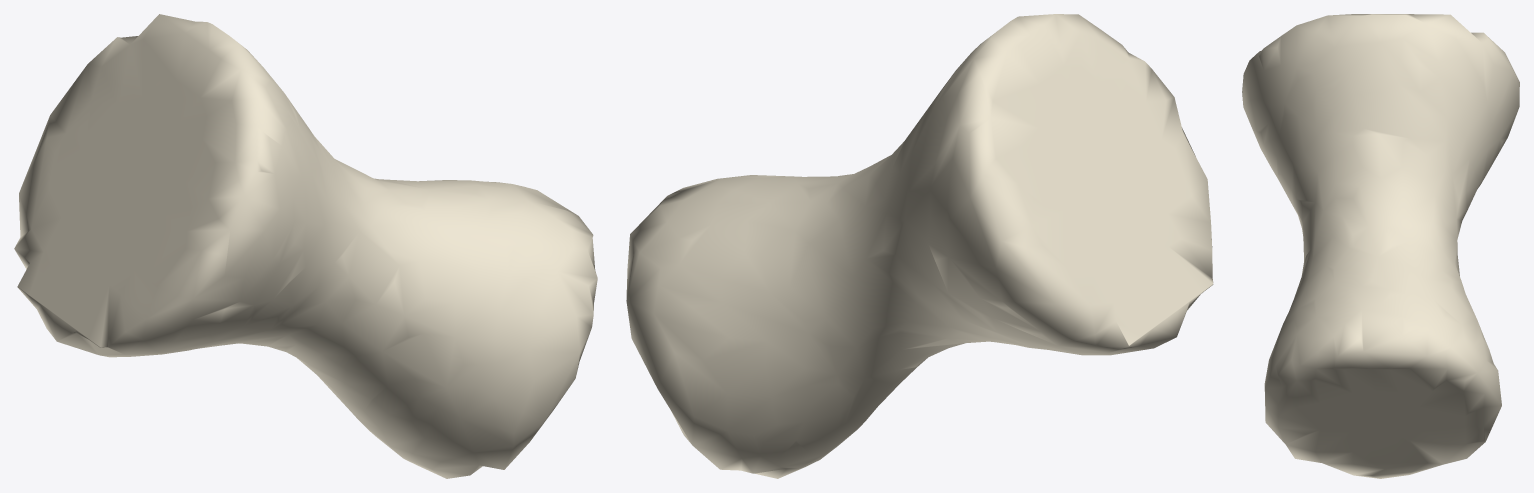
The model's file is caudal_7.glb.
The picture shows the model from 3 angles, left to right: view 1: azimuth 30°, elevation 25°; view 2: azimuth 150°, elevation 25°; view 3: azimuth 270°, elevation 25°; orthographic projection. The views are drawn at different scales.
Parts seen in each view (by area): view 1: geometry_0; view 2: geometry_0; view 3: geometry_0.
Boxes of the visible parts, x1,y1,x2,y2 form: geometry_0: [14, 14, 597, 478]; geometry_0: [626, 14, 1213, 478]; geometry_0: [1242, 14, 1519, 478].
Bounding box in the file's own units: 0.0623 × 0.0569 × 0.0371.
